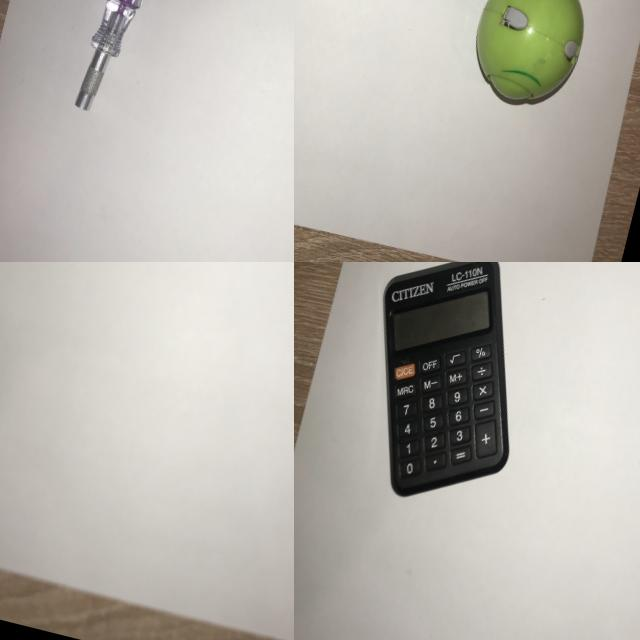calculator: (331, 262, 559, 526)
screwdriver: (62, 0, 186, 131)
toy: (451, 0, 609, 129)
